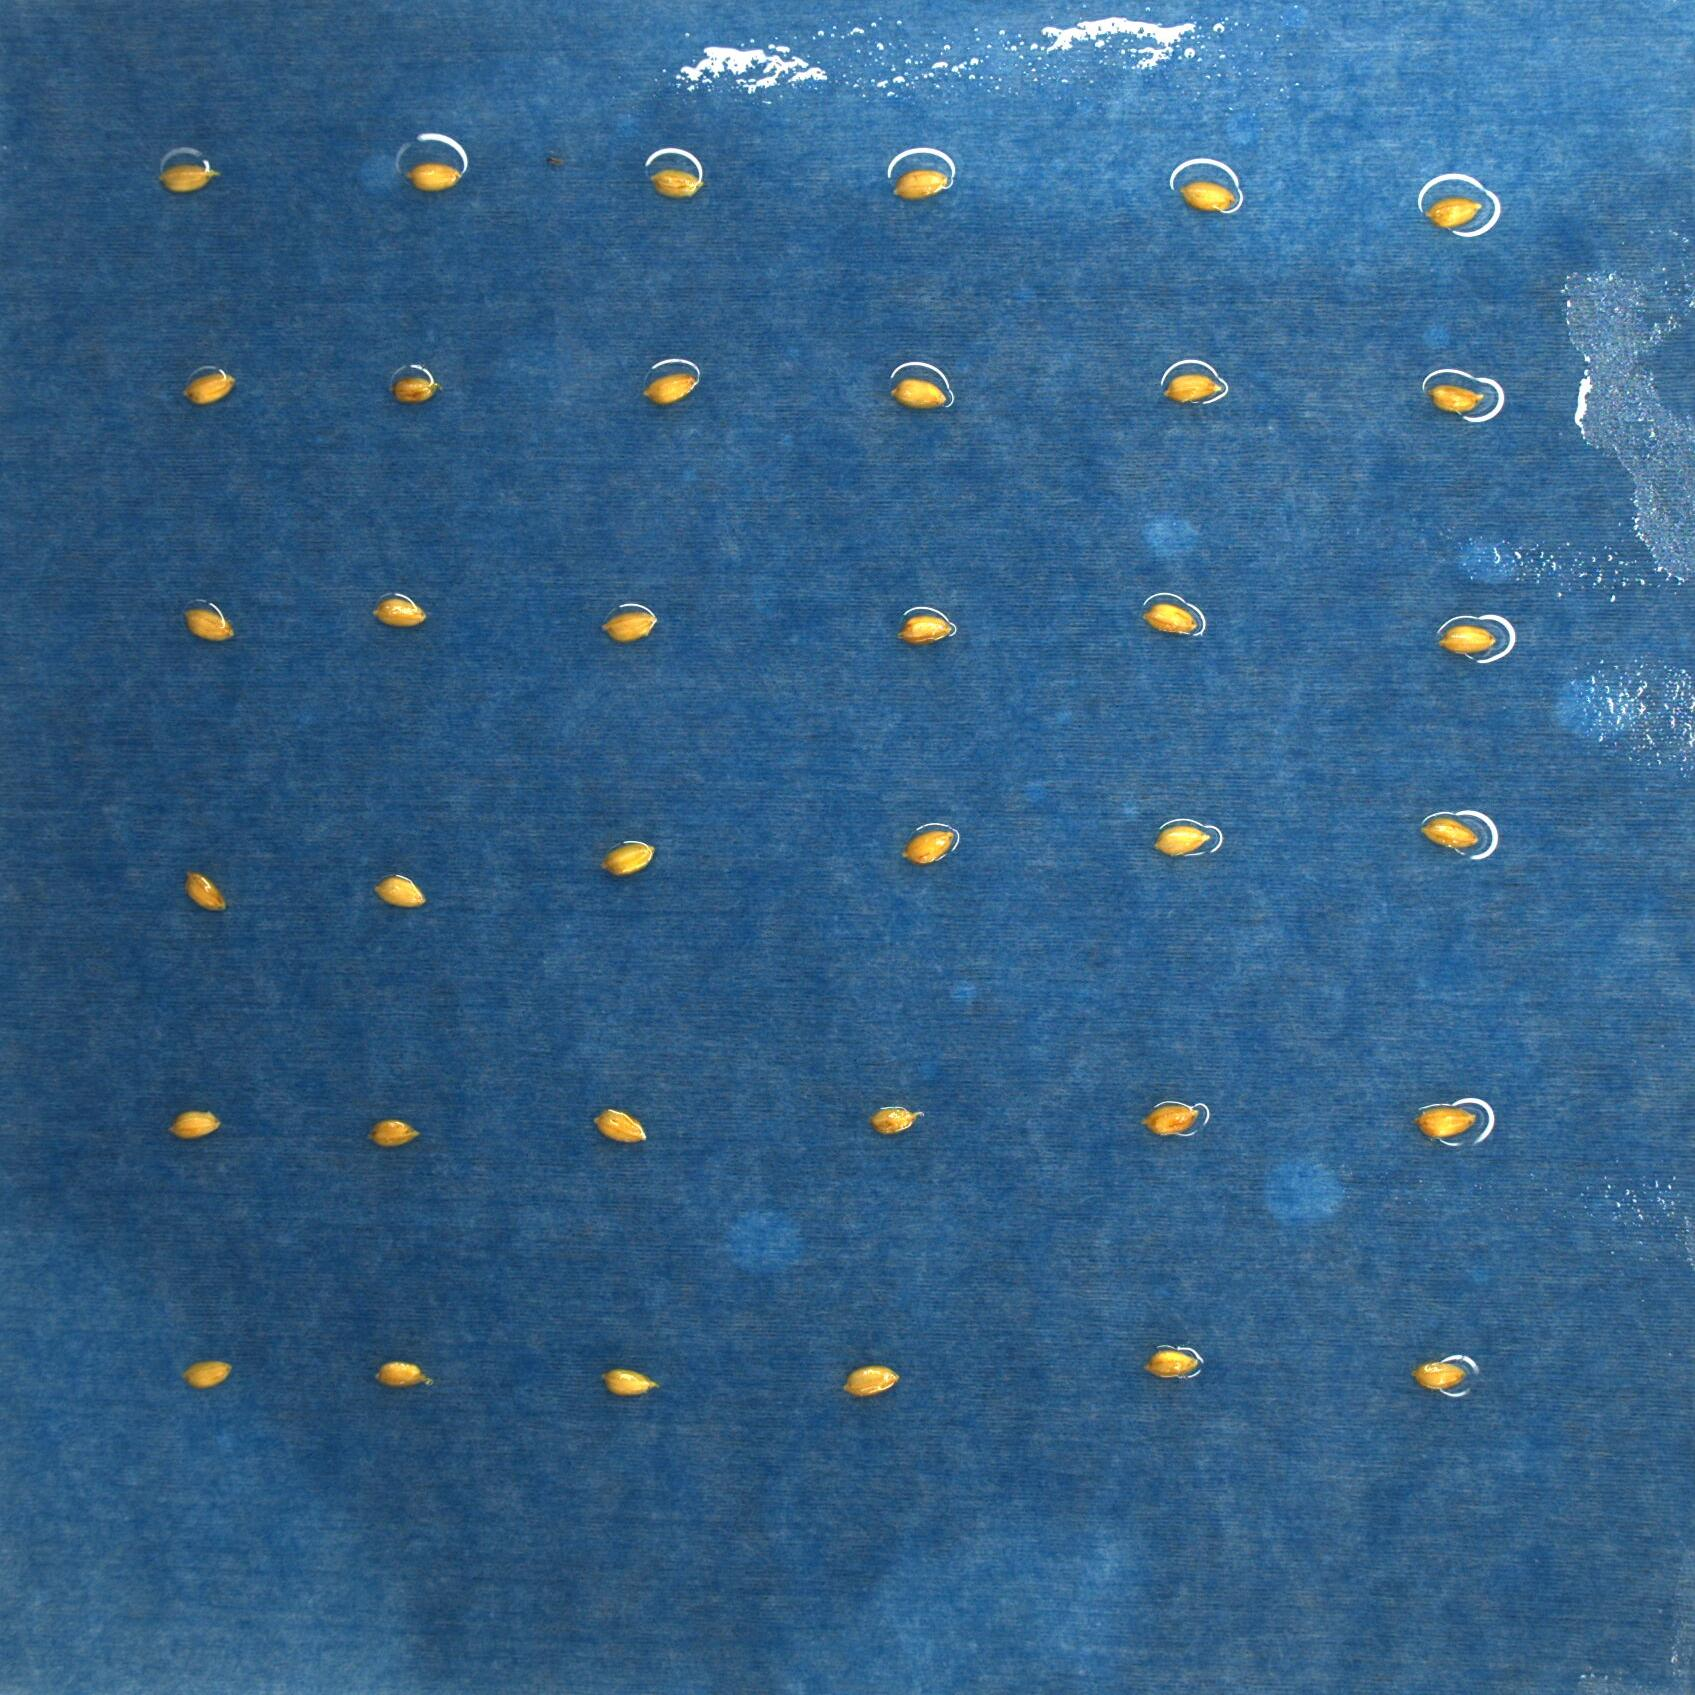not sprout: (899, 823, 958, 868), (1419, 812, 1479, 855), (601, 605, 666, 644), (1431, 376, 1495, 414), (1180, 172, 1239, 213), (179, 871, 233, 914), (183, 599, 233, 646), (886, 169, 956, 202), (593, 1107, 650, 1146), (1150, 821, 1214, 855), (373, 591, 425, 632), (1412, 1107, 1481, 1138), (399, 157, 464, 188), (643, 373, 702, 407), (601, 841, 660, 875), (1164, 369, 1226, 400), (1434, 626, 1496, 657), (1147, 596, 1198, 633), (894, 612, 955, 643), (161, 161, 220, 192), (373, 1357, 432, 1388), (182, 368, 234, 402), (894, 376, 951, 407), (841, 1363, 899, 1394), (1142, 1104, 1201, 1133), (1408, 1358, 1467, 1388), (379, 872, 428, 906), (869, 1104, 930, 1132), (168, 1111, 220, 1142), (1147, 1343, 1200, 1374), (599, 1367, 657, 1395), (179, 1358, 230, 1388), (647, 168, 702, 194), (366, 1118, 419, 1144), (1428, 199, 1482, 224), (394, 373, 441, 400)
